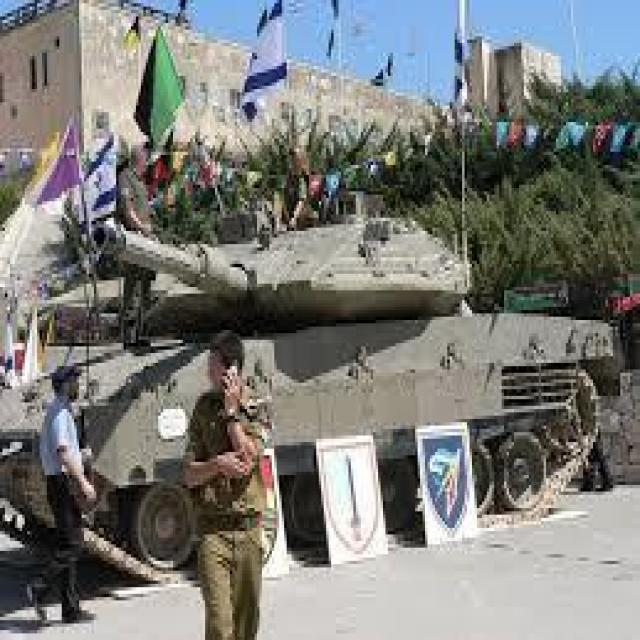Tanks: (11, 222, 612, 562)
